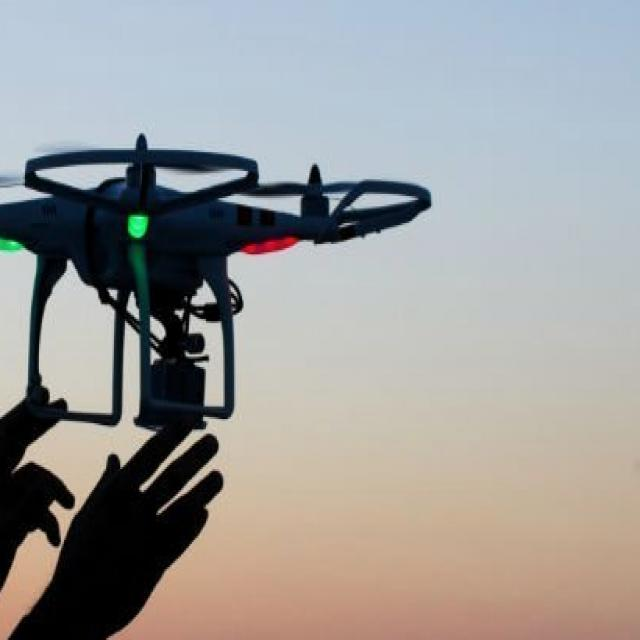drone: (0, 131, 464, 369)
